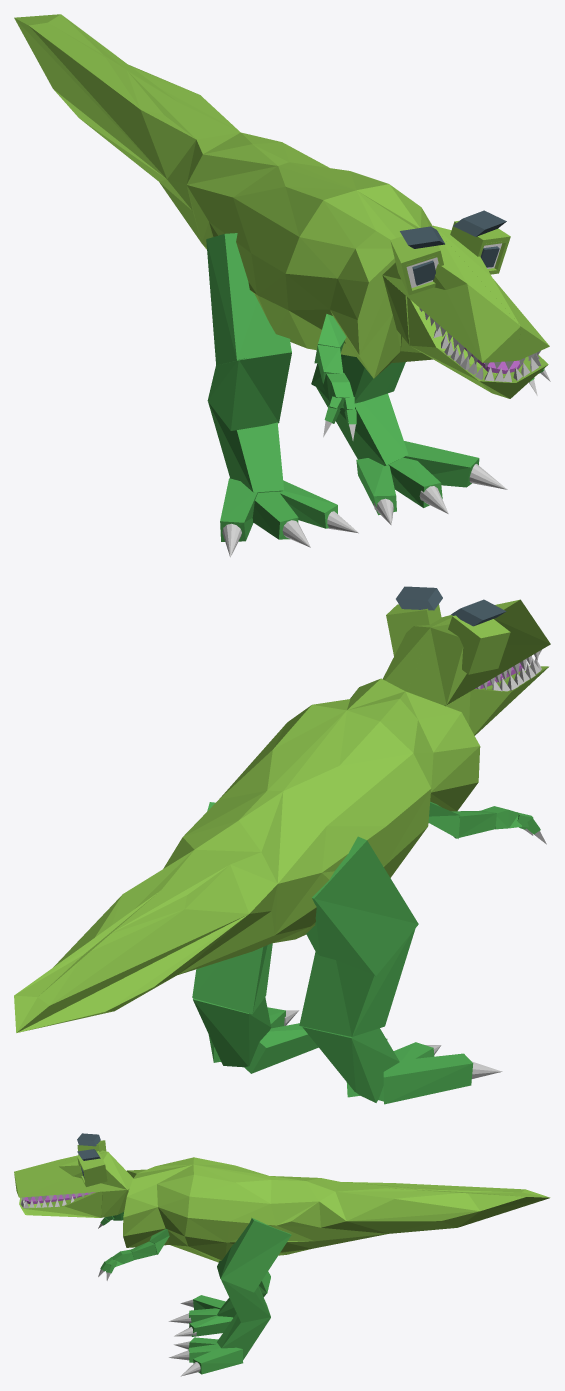
File: FullTrex.fbx
3 renders of one model, top to bottom at view 1: azimuth 30°, elevation 25°; view 2: azimuth 150°, elevation 25°; view 3: azimuth 270°, elevation 25°, orthographic. The views are drawn at different scales.
Parts seen in each view (by area): view 1: Body, Tail, mouth_top, Thigh_R, Calf_R, mouth_bottom, Ankle_R, Ankle_L, toe1_L, Calf_L, toe1_R, toe2_L (+11 smaller); view 2: Tail, Body, Thigh_R, mouth_top, Calf_R, Ankle_R, Calf_L, toe1_R, Ankle_L, mouth_bottom, eye_R, toe3_L (+6 smaller); view 3: Tail, Body, mouth_top, Thigh_L, mouth_bottom, Calf_L, Ankle_L, toe1_L, toe3_R, eye_L, mouth_back, toe2_R (+3 smaller).
Boxes of the visible parts, x1,y1,x2,y2 form: Body: [209, 162, 432, 378]; Tail: [14, 14, 329, 249]; mouth_top: [383, 225, 549, 369]; Thigh_R: [206, 233, 290, 365]; Calf_R: [207, 346, 291, 430]; mouth_bottom: [407, 297, 548, 398]; Ankle_R: [208, 402, 283, 492]; Ankle_L: [316, 387, 408, 465]; toe1_L: [403, 441, 507, 489]; Calf_L: [311, 354, 405, 403]; toe1_R: [220, 478, 257, 557]; toe2_L: [388, 457, 448, 513]; Tail: [14, 790, 326, 1032]; Body: [219, 678, 480, 943]; Thigh_R: [306, 836, 418, 976]; mouth_top: [383, 599, 550, 705]; Calf_R: [299, 928, 415, 1036]; Ankle_R: [302, 1026, 399, 1102]; Calf_L: [192, 943, 272, 1014]; toe1_R: [383, 1053, 502, 1104]; Ankle_L: [193, 997, 271, 1067]; mouth_bottom: [469, 657, 548, 735]; eye_R: [448, 615, 510, 674]; toe3_L: [244, 1023, 318, 1073]; Tail: [269, 1176, 550, 1254]; Body: [123, 1157, 286, 1262]; mouth_top: [14, 1150, 133, 1201]; Thigh_L: [217, 1218, 291, 1292]; mouth_bottom: [19, 1191, 102, 1217]; Calf_L: [221, 1279, 270, 1322]; Ankle_L: [217, 1313, 270, 1359]; toe1_L: [180, 1347, 243, 1376]; toe3_R: [174, 1315, 232, 1336]; eye_L: [77, 1151, 107, 1186]; mouth_back: [101, 1188, 129, 1217]; toe2_R: [168, 1308, 219, 1323].
Size of the model in its own units: 47.85 by 60.44 by 148.
